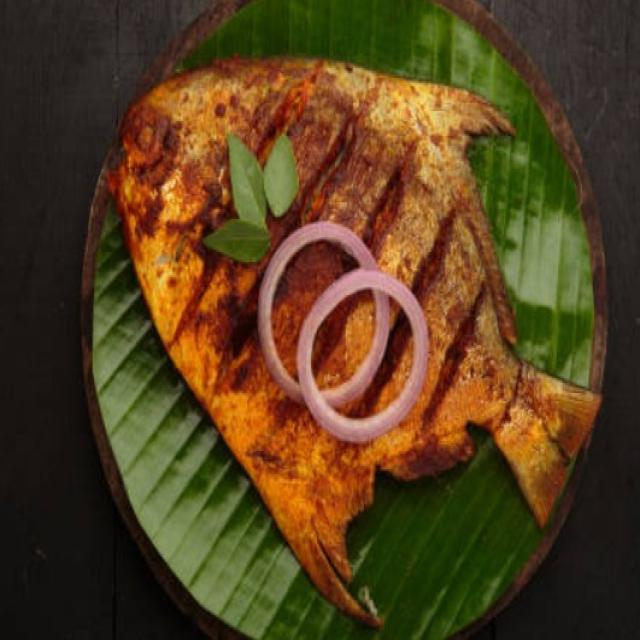FISH FRY: (123, 56, 606, 616)
